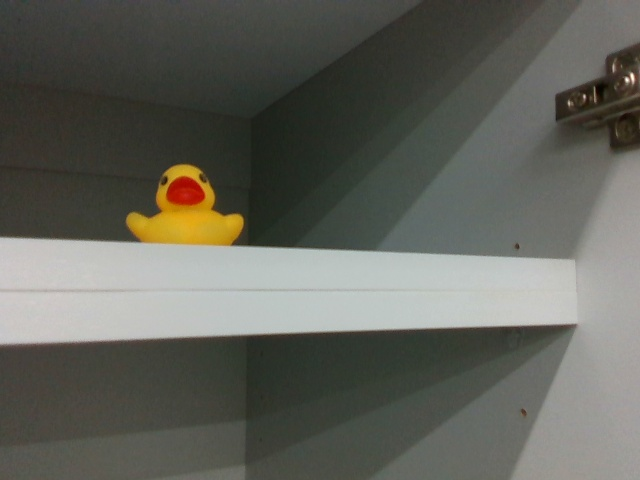duck: (125, 159, 245, 244)
